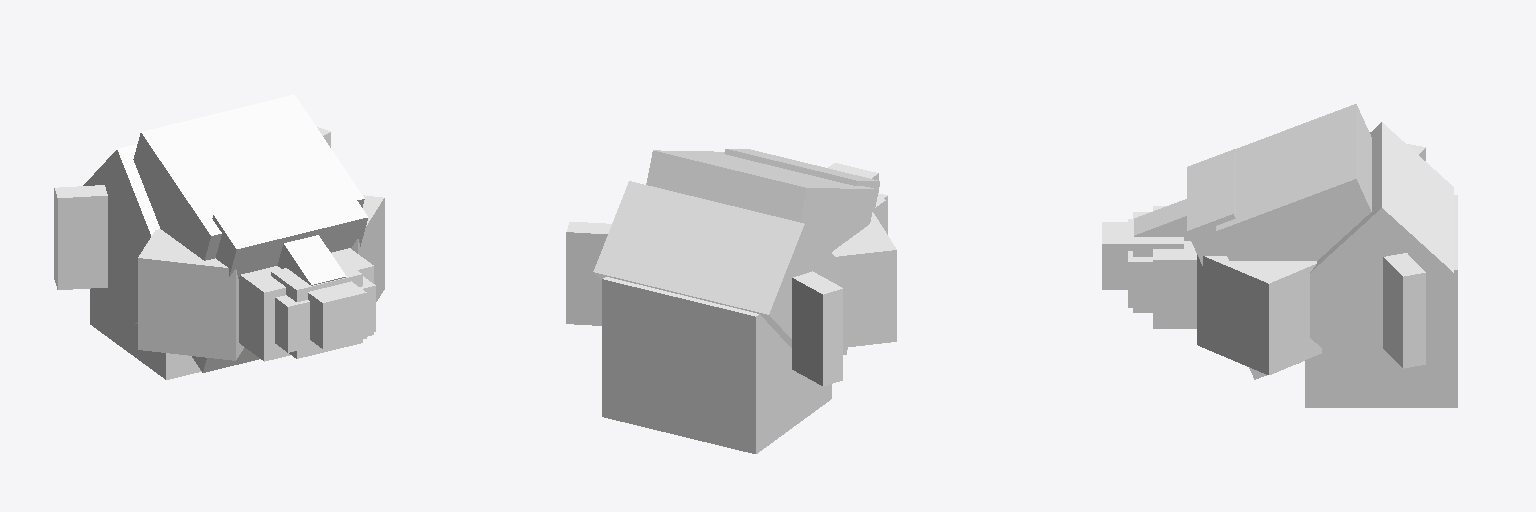
File: meng_standing_head.obj
The picture shows the model from 3 angles: view 1: azimuth 30°, elevation 25°; view 2: azimuth 150°, elevation 25°; view 3: azimuth 270°, elevation 25°; orthographic projection.
Visible parts, largest first — view 1: Element #10, Element #11, Element #8, Element #3, Element #13, Element #6, Element #2, Element #4, Element #5, Element #1, Element #9, Element #7; view 2: Element #2, Element #3, Element #10, Element #11, Element #13, Element #12, Element #8; view 3: Element #3, Element #10, Element #9, Element #2, Element #12, Element #8, Element #6, Element #4, Element #1, Element #5, Element #7.
Boxes of the visible parts, x1=… form: Element #10: x1=133, y1=94, x2=364, y2=260; Element #11: x1=138, y1=229, x2=243, y2=360; Element #8: x1=192, y1=183, x2=367, y2=372; Element #3: x1=83, y1=144, x2=159, y2=324; Element #13: x1=54, y1=185, x2=107, y2=289; Element #6: x1=239, y1=248, x2=373, y2=361; Element #2: x1=90, y1=257, x2=201, y2=379; Element #4: x1=308, y1=281, x2=366, y2=348; Element #5: x1=275, y1=276, x2=375, y2=352; Element #1: x1=277, y1=235, x2=346, y2=285; Element #9: x1=351, y1=195, x2=384, y2=301; Element #7: x1=271, y1=256, x2=362, y2=358; Element #2: x1=602, y1=277, x2=831, y2=453; Element #3: x1=593, y1=181, x2=840, y2=347; Element #10: x1=646, y1=150, x2=876, y2=251; Element #11: x1=832, y1=212, x2=896, y2=347; Element #13: x1=792, y1=271, x2=842, y2=386; Element #12: x1=566, y1=222, x2=611, y2=325; Element #8: x1=724, y1=149, x2=879, y2=354; Element #3: x1=1310, y1=122, x2=1453, y2=369; Element #10: x1=1216, y1=104, x2=1371, y2=260; Element #9: x1=1197, y1=255, x2=1321, y2=374; Element #2: x1=1305, y1=195, x2=1457, y2=407; Element #12: x1=1383, y1=253, x2=1425, y2=368; Element #8: x1=1187, y1=149, x2=1300, y2=379; Element #6: x1=1153, y1=206, x2=1196, y2=328; Element #4: x1=1102, y1=222, x2=1132, y2=289; Element #1: x1=1134, y1=199, x2=1190, y2=240; Element #5: x1=1128, y1=219, x2=1152, y2=307; Element #7: x1=1133, y1=212, x2=1183, y2=312.
Size of the model in its own units: 6.23 by 5 by 7.